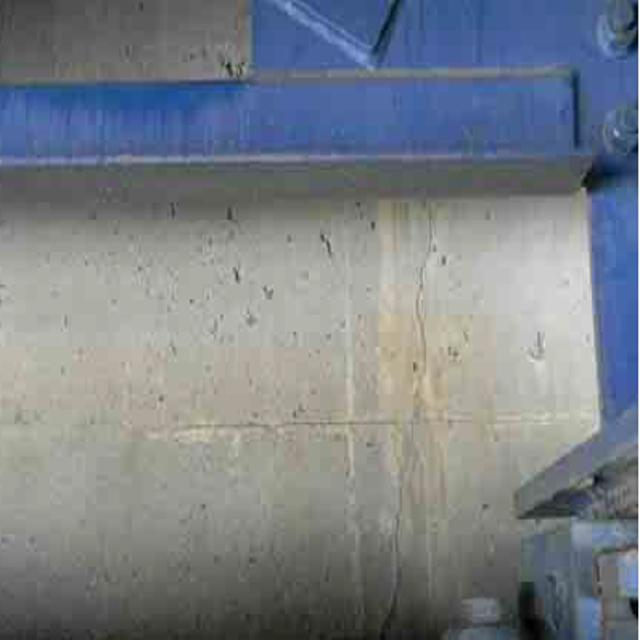crack: (359, 213, 447, 634)
